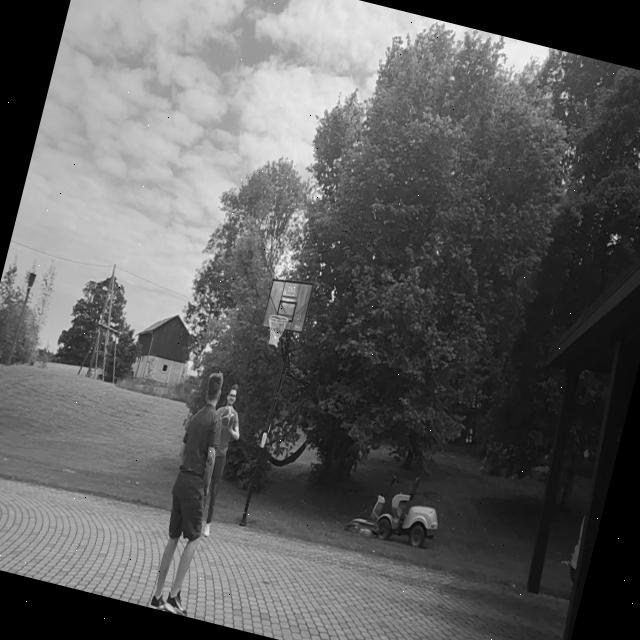ball: (218, 404, 236, 430)
basket: (260, 311, 289, 353)
player: (140, 364, 242, 616), (185, 376, 250, 540)
